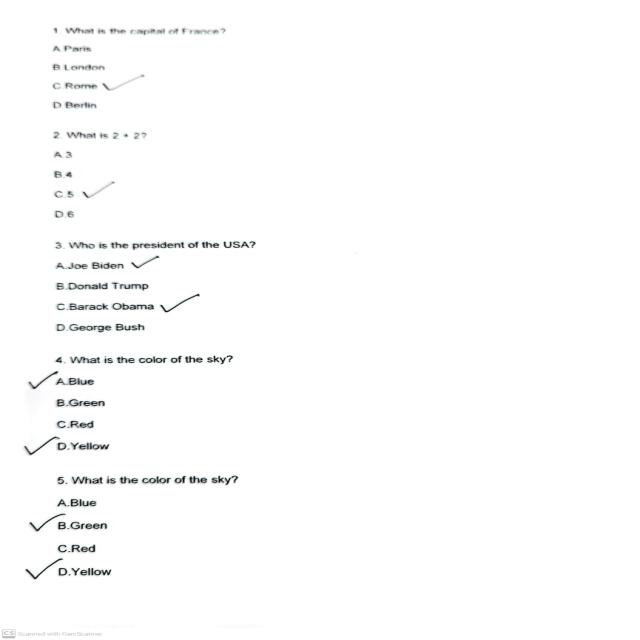Student_Ticked: (100, 70, 166, 96), (22, 555, 69, 584), (12, 433, 61, 458), (156, 288, 202, 312), (25, 508, 65, 533), (80, 182, 124, 204), (29, 370, 66, 394), (123, 250, 165, 270)
